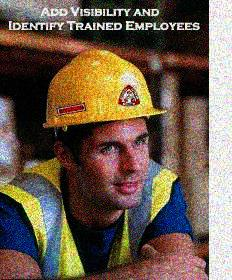helmet: (42, 47, 167, 206)
